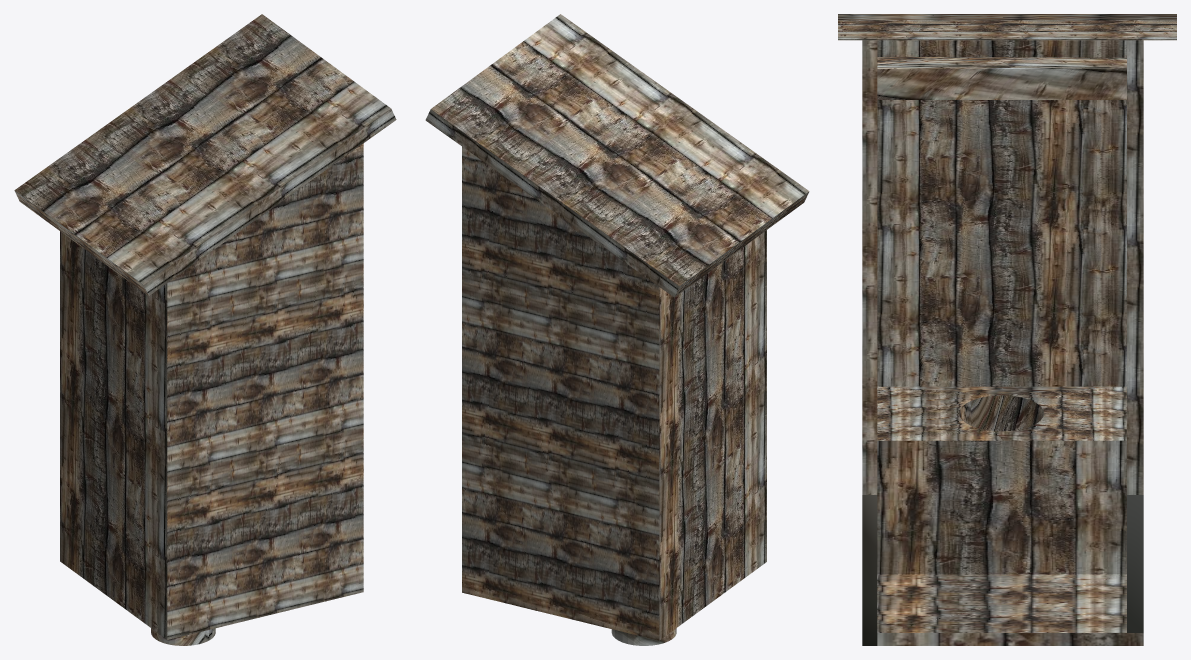
The model's file is туалет.glb.
The picture shows the model from 3 angles, left to right: view 1: azimuth 30°, elevation 25°; view 2: azimuth 150°, elevation 25°; view 3: azimuth 270°, elevation 25°; orthographic projection. The views are drawn at different scales.
Parts seen in each view (by area): view 1: Plane; view 2: Plane; view 3: Plane.
Boxes of the visible parts, <box> form: Plane: <box>14,14,396,645</box>; Plane: <box>425,14,809,645</box>; Plane: <box>838,14,1176,645</box>.
Size of the model in its own units: 1.93 by 3.89 by 1.71.
Materials: 1 (1 with a texture image).
